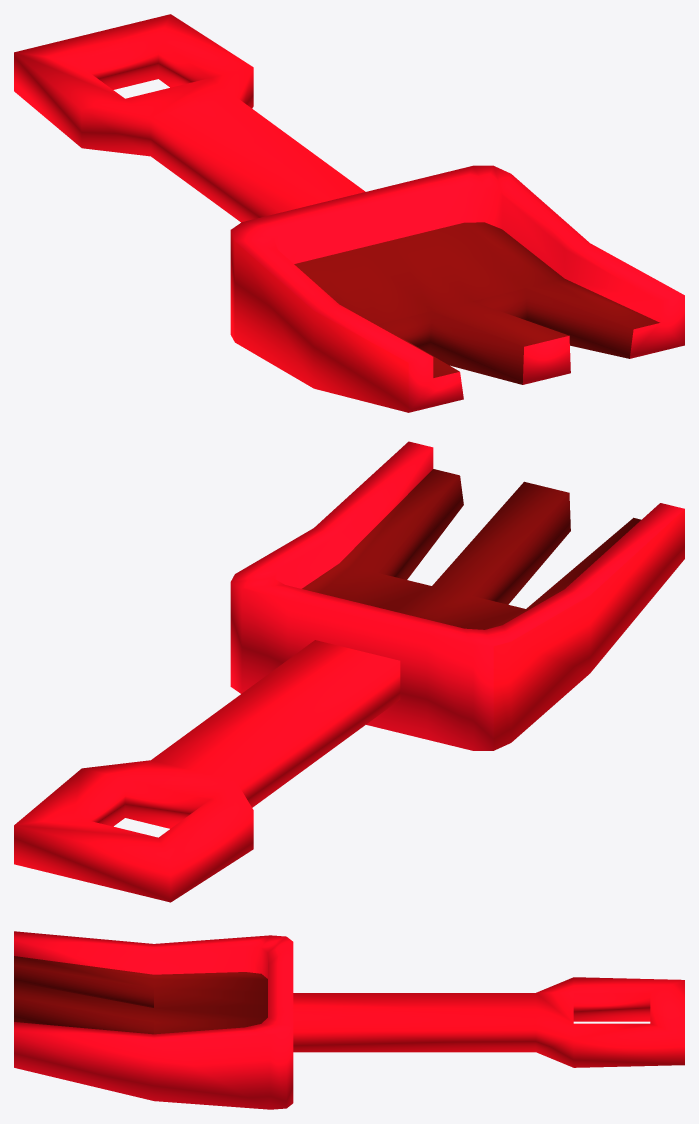
File: BeachToyRakeRed.glb
3 renders of one model, top to bottom at view 1: azimuth 30°, elevation 25°; view 2: azimuth 150°, elevation 25°; view 3: azimuth 270°, elevation 25°, orthographic. The views are drawn at different scales.
Visible parts, largest first — view 1: BeachToyRakeRed; view 2: BeachToyRakeRed; view 3: BeachToyRakeRed.
Boxes of the visible parts, box(x1,y1,x2,y2) form: BeachToyRakeRed: box(14, 14, 684, 412); BeachToyRakeRed: box(14, 441, 684, 902); BeachToyRakeRed: box(14, 931, 684, 1109).
Size of the model in its own units: 0.1813 by 0.0684 by 0.5164.
1 material, 1 textured.
